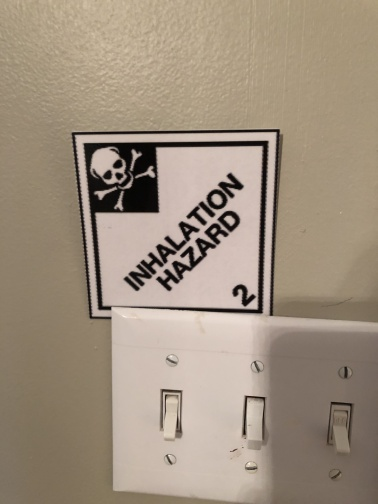InhalationHazard: (69, 128, 280, 319)
